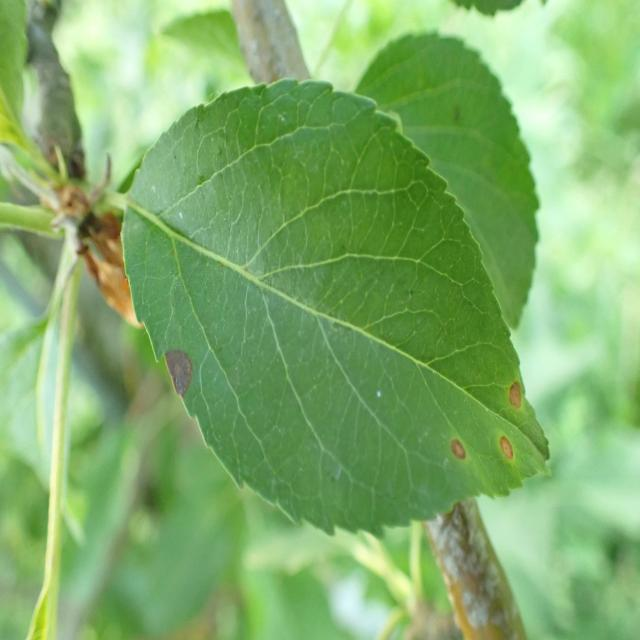Black Rot: (480, 362, 537, 427), (156, 344, 197, 406), (440, 428, 478, 483), (491, 430, 527, 470)
